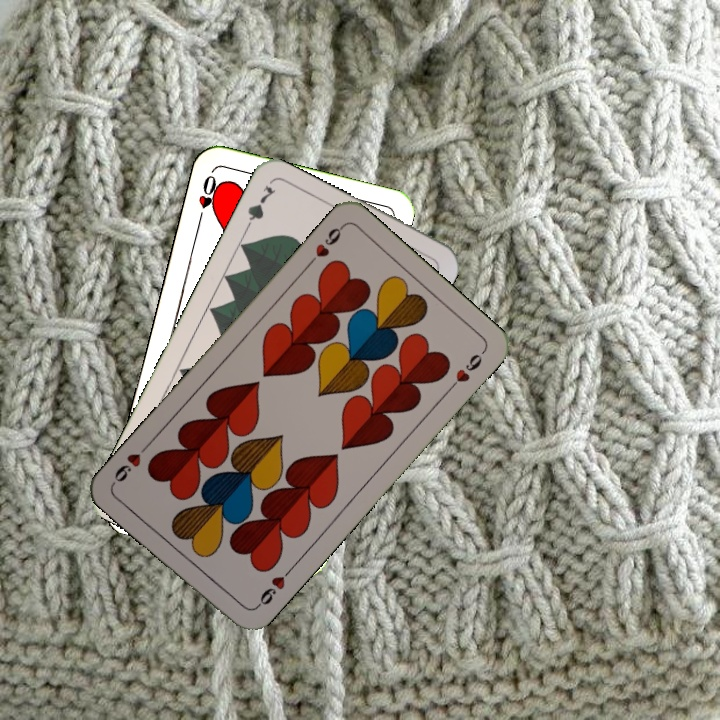G7: (239, 180, 279, 236)
H9: (251, 564, 295, 612), (303, 221, 346, 270)
HO: (193, 171, 222, 227)
